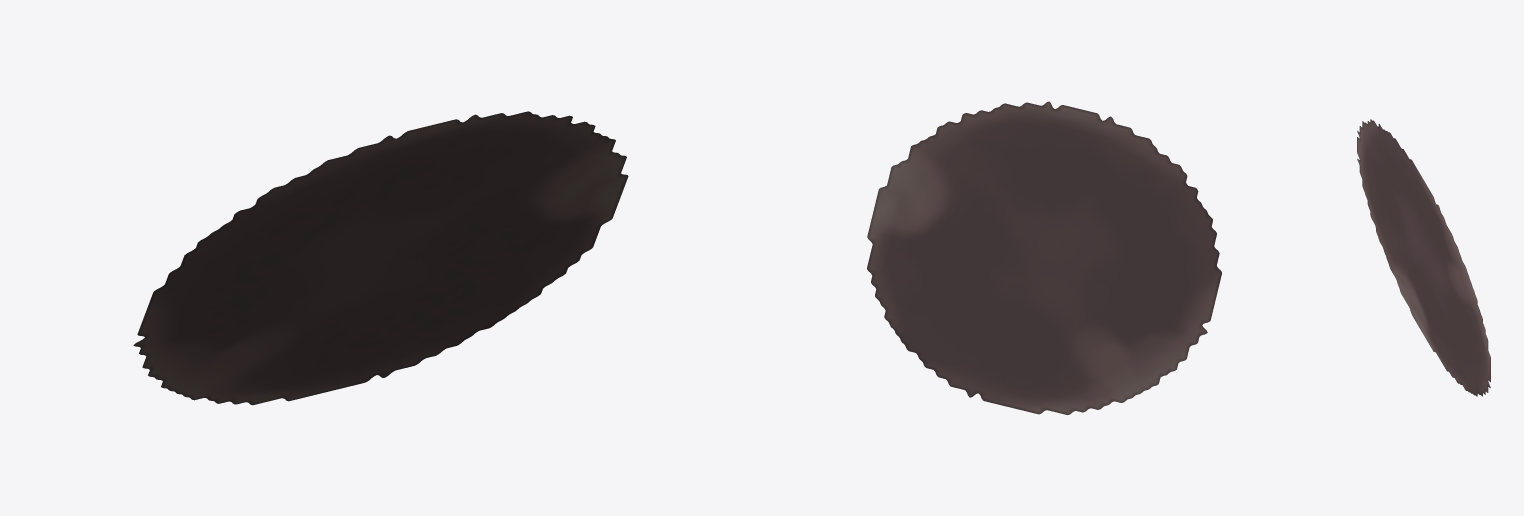
The model's file is billboards.glb.
3 renders of one model, left to right at view 1: azimuth 30°, elevation 25°; view 2: azimuth 150°, elevation 25°; view 3: azimuth 270°, elevation 25°, orthographic. The views are drawn at different scales.
Visible parts, largest first — view 1: rsrc.world.tileset.clockworks_fire.billboards-Submesh[0]; view 2: rsrc.world.tileset.clockworks_fire.billboards-Submesh[0]; view 3: rsrc.world.tileset.clockworks_fire.billboards-Submesh[0].
Boxes of the visible parts, x1=… form: rsrc.world.tileset.clockworks_fire.billboards-Submesh[0]: x1=133, y1=111, x2=628, y2=405; rsrc.world.tileset.clockworks_fire.billboards-Submesh[0]: x1=867, y1=101, x2=1221, y2=414; rsrc.world.tileset.clockworks_fire.billboards-Submesh[0]: x1=1357, y1=119, x2=1490, y2=396.
Size of the model in its own units: 0.2927 by 0.1995 by 0.1067.
1 material, 1 textured.
